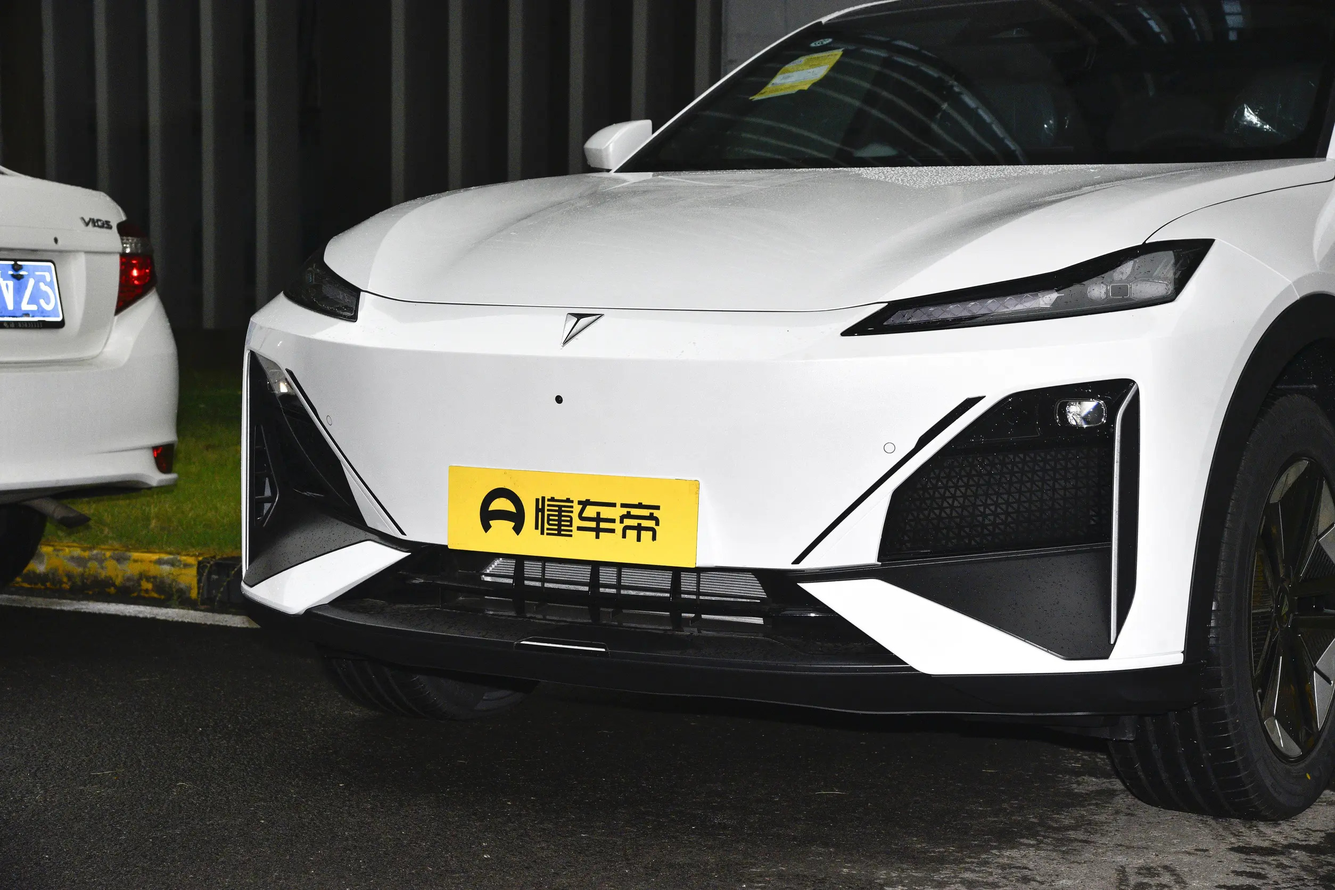Deepal: (561, 312, 603, 347)
